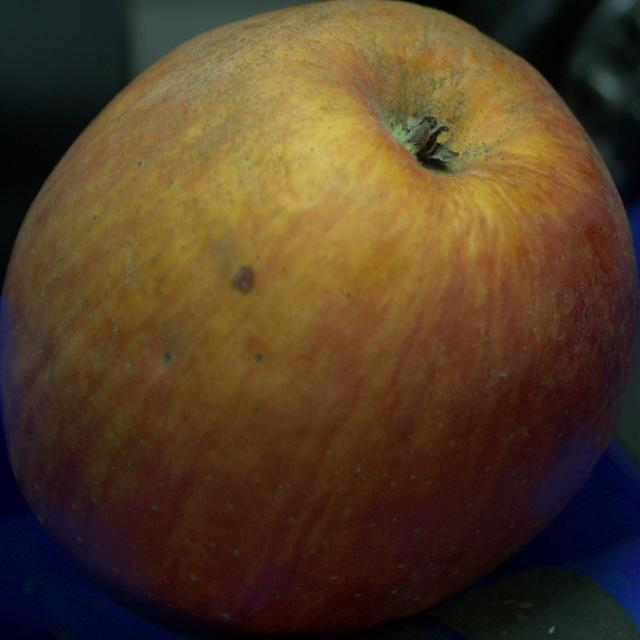apple: (0, 0, 639, 637)
pest: (232, 266, 254, 293), (254, 353, 263, 361), (163, 354, 170, 361)
